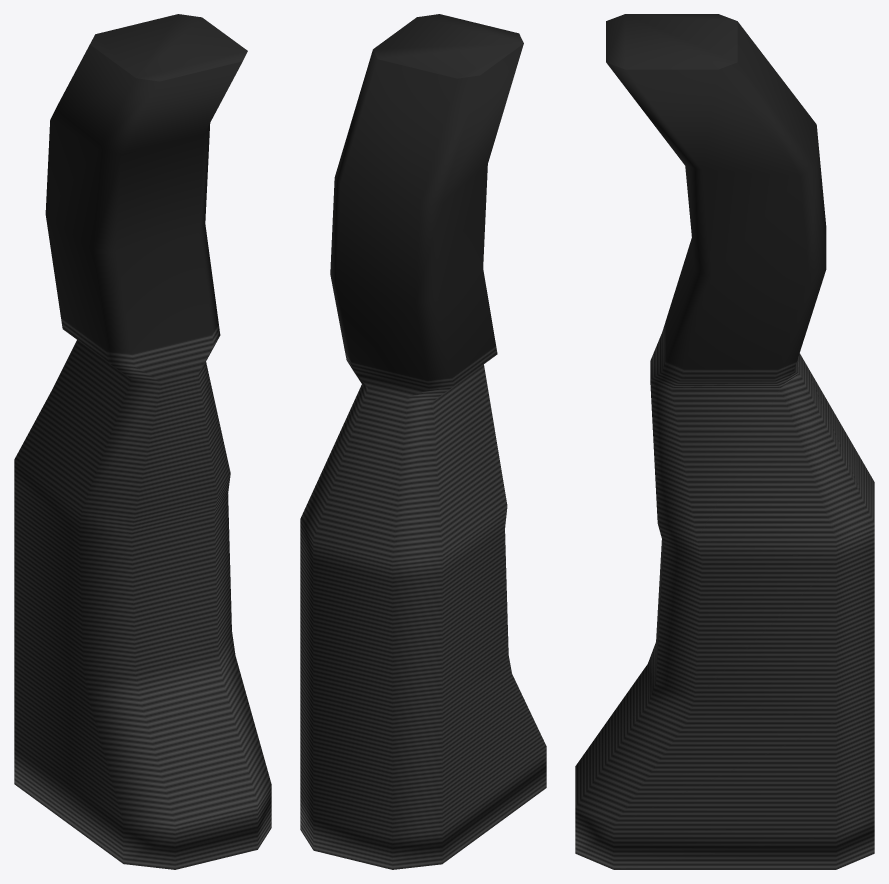
Rendered from handle.fbx.
3 renders of one model, left to right at view 1: azimuth 30°, elevation 25°; view 2: azimuth 150°, elevation 25°; view 3: azimuth 270°, elevation 25°, orthographic. The views are drawn at different scales.
Parts seen in each view (by area): view 1: handle; view 2: handle; view 3: handle.
Part boxes in pixels (x1,y1,x2,y2): handle: (14, 14, 271, 869); handle: (300, 14, 546, 869); handle: (575, 14, 874, 869).
Bounding box in the file's own units: 4.11 × 20.6 × 7.07.
